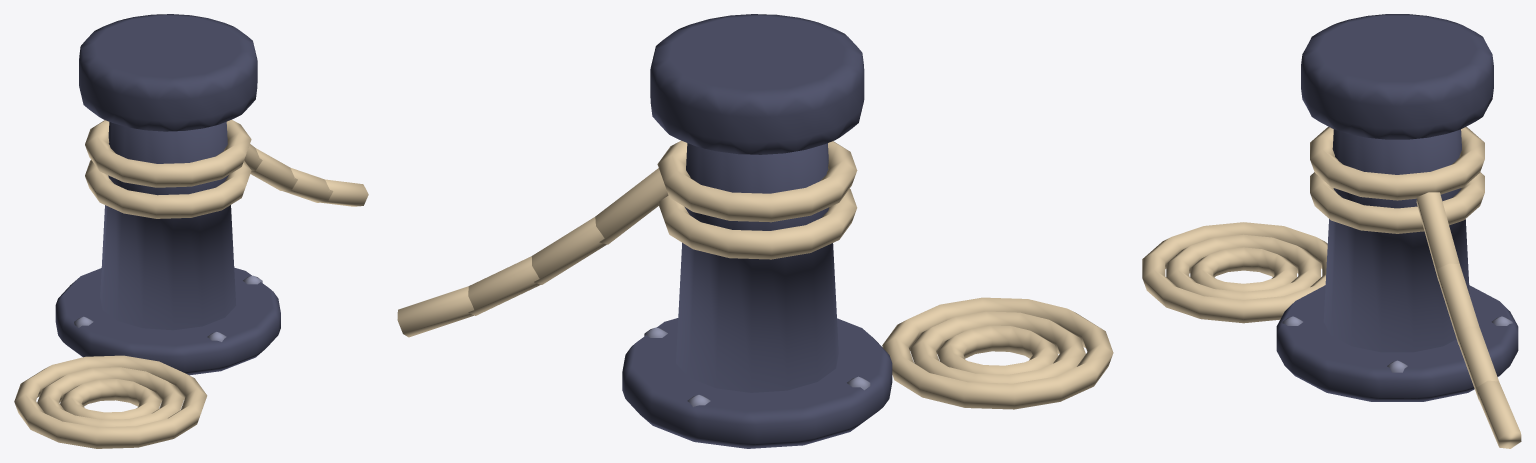
The model's file is dock_bollard.glb.
3 renders of one model, left to right at view 1: azimuth 30°, elevation 25°; view 2: azimuth 150°, elevation 25°; view 3: azimuth 270°, elevation 25°, orthographic. The views are drawn at different scales.
Visible parts, largest first — view 1: Bollard; view 2: Bollard; view 3: Bollard.
Part boxes in pixels (x1,y1,x2,y2): Bollard: (14,14,368,448); Bollard: (397,14,1113,448); Bollard: (1142,14,1521,448).
Size of the model in its own units: 0.9284 by 0.55 by 0.6166.
